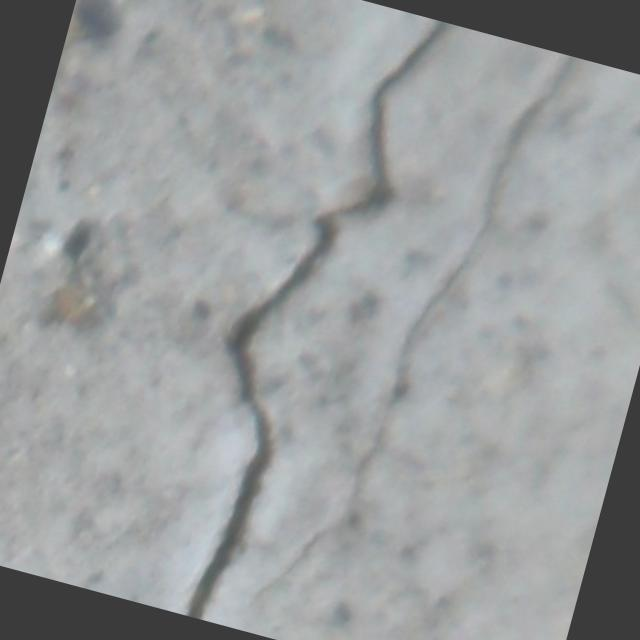crack: (233, 10, 588, 640), (146, 0, 460, 640)
